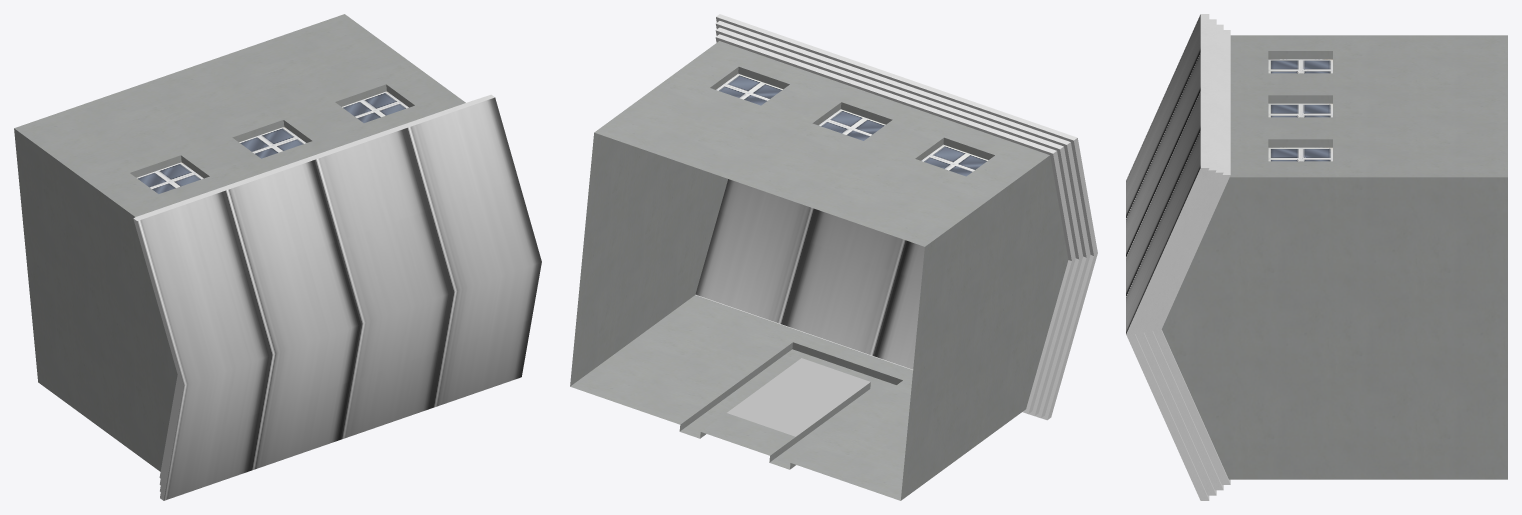
Rendered from aia_14a.obj.
3 renders of one model, left to right at view 1: azimuth 30°, elevation 25°; view 2: azimuth 150°, elevation 25°; view 3: azimuth 270°, elevation 25°, orthographic. The views are drawn at different scales.
Parts seen in each view (by area): view 1: Aia_14a; view 2: Aia_14a; view 3: Aia_14a.
Boxes of the visible parts, x1,y1,x2,y2 form: Aia_14a: (14,14,541,500); Aia_14a: (570,14,1097,500); Aia_14a: (1126,14,1507,500).
Size of the model in its own units: 5.61 by 4.5 by 4.33.
